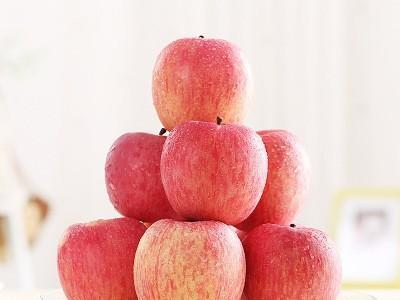apple: (161, 122, 268, 222), (151, 35, 248, 131), (131, 221, 246, 300), (53, 219, 156, 300), (237, 224, 343, 299), (242, 129, 312, 229), (104, 131, 177, 222)
